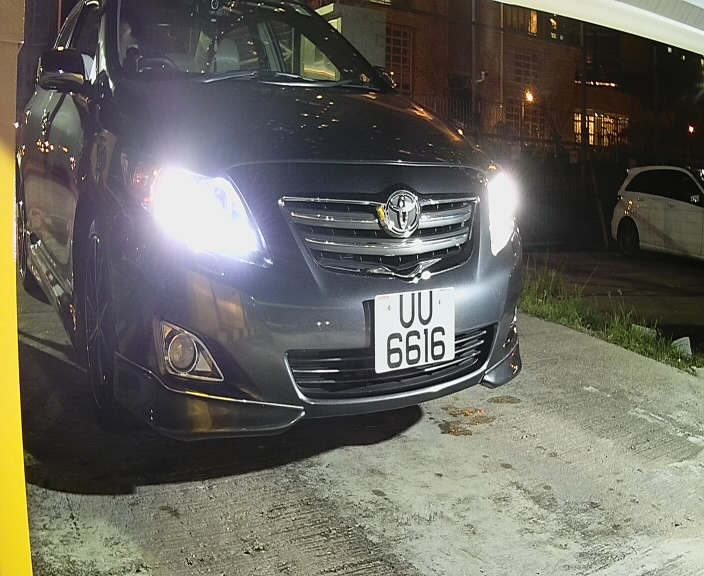License Plate: (368, 287, 467, 381)
